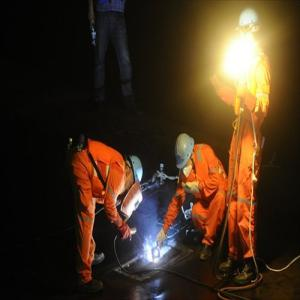blue: (174, 133, 196, 174), (239, 7, 262, 46), (124, 154, 145, 189)
